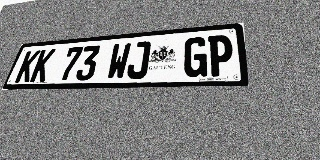3: (74, 45, 101, 81)
7: (57, 46, 84, 81)
G: (183, 36, 207, 77)
J: (126, 41, 151, 79)
K: (14, 50, 41, 83), (29, 49, 56, 82)
P: (208, 34, 234, 77)
W: (105, 43, 132, 80)
